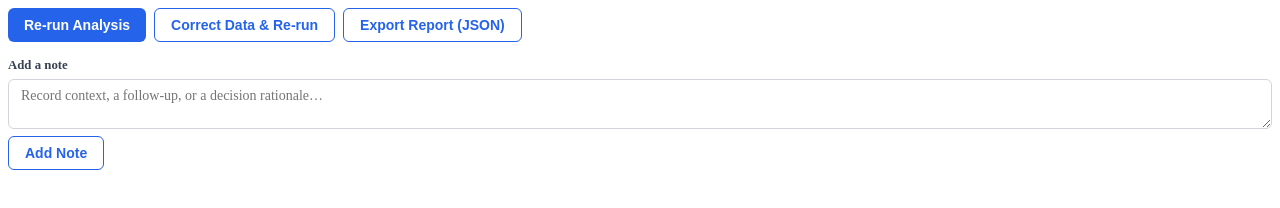
Test case: OperatorActions › adds a note and confirms
The width and height of the screenshot is (1280, 208).
Type "looks legit" into the text box with test id "note-input" at (640, 104), box 8,79 -> 1272,129
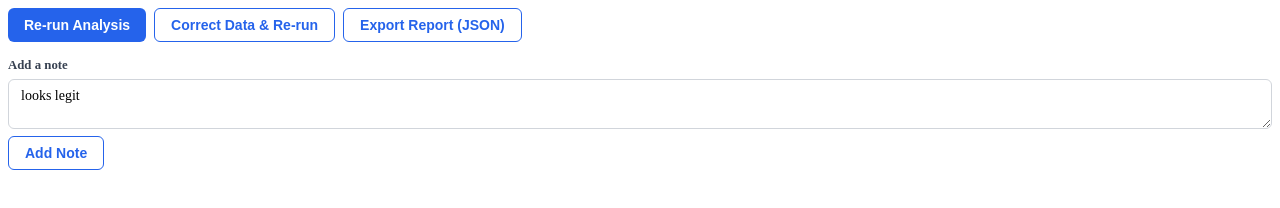
Click the button with test id "add-note-btn" at (56, 153), box 8,136 -> 104,170
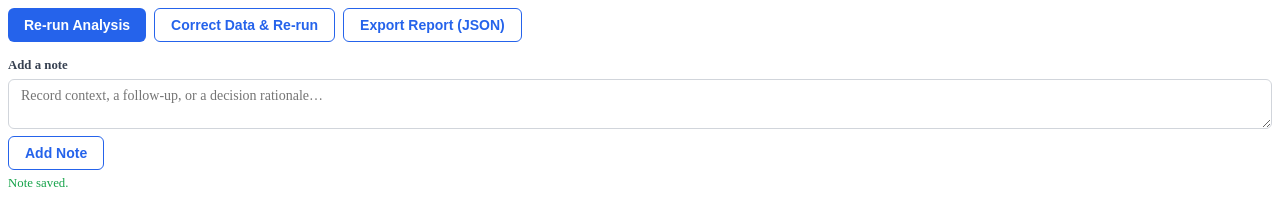
Now the text "Note saved." is shown, box 8,176 -> 68,191
